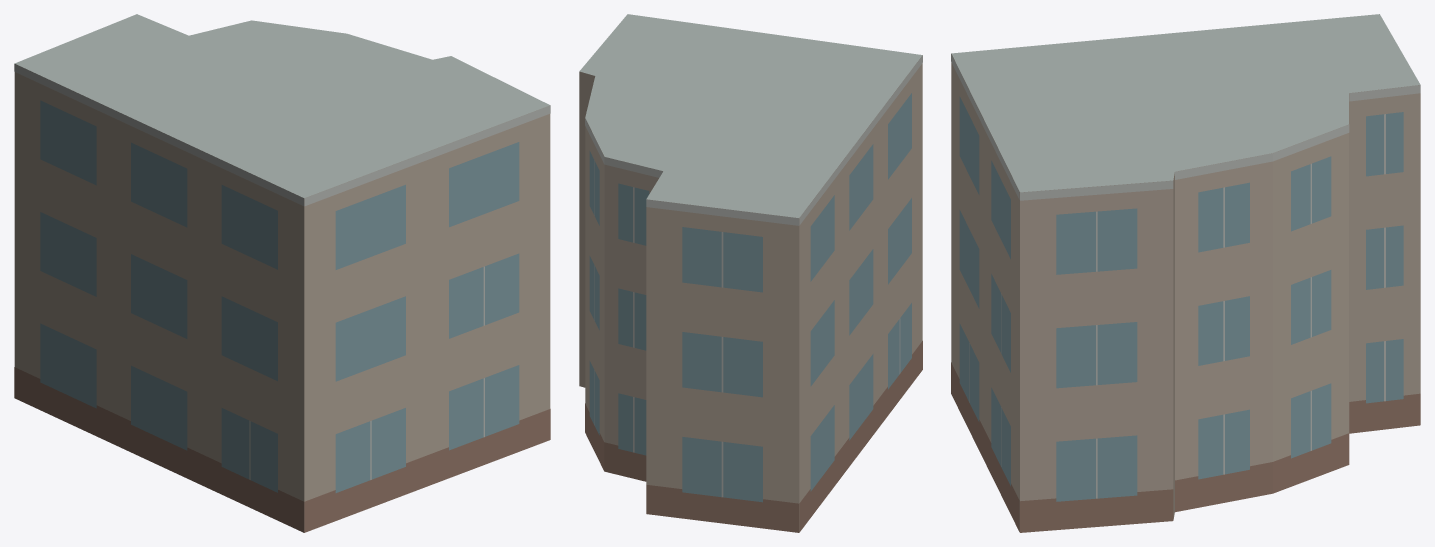
Rendered from survey-upis-32822976.glb.
The picture shows the model from 3 angles, left to right: view 1: azimuth 30°, elevation 25°; view 2: azimuth 150°, elevation 25°; view 3: azimuth 270°, elevation 25°; orthographic projection. The views are drawn at different scales.
Visible parts, largest first — view 1: survey-upis-32822976.tmp; view 2: survey-upis-32822976.tmp; view 3: survey-upis-32822976.tmp.
Part boxes in pixels (<box>): survey-upis-32822976.tmp: <box>14,14,550,532</box>; survey-upis-32822976.tmp: <box>579,14,922,532</box>; survey-upis-32822976.tmp: <box>951,14,1420,532</box>.
Bounding box in the file's own units: 11.13 × 9.9 × 12.38.
